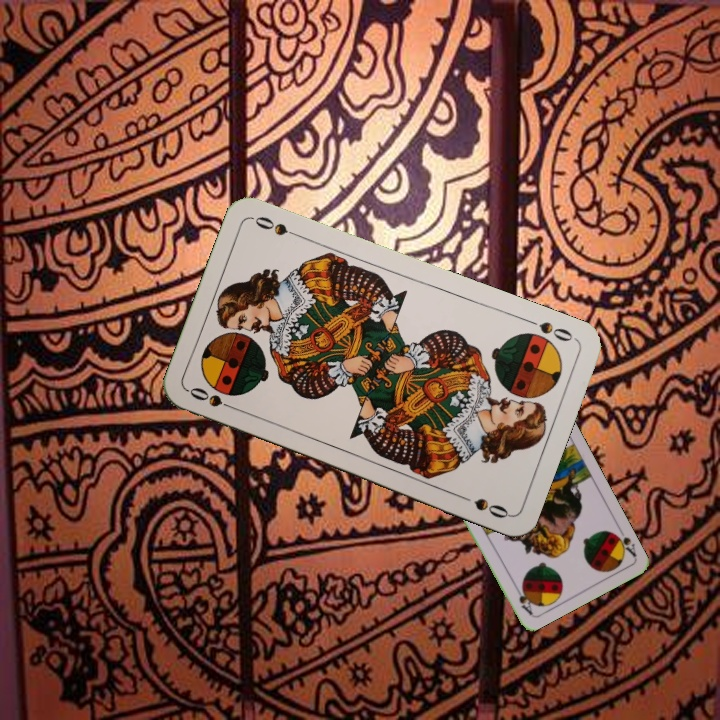SA: (608, 522, 639, 560)
SO: (185, 383, 242, 414), (521, 314, 578, 344)
